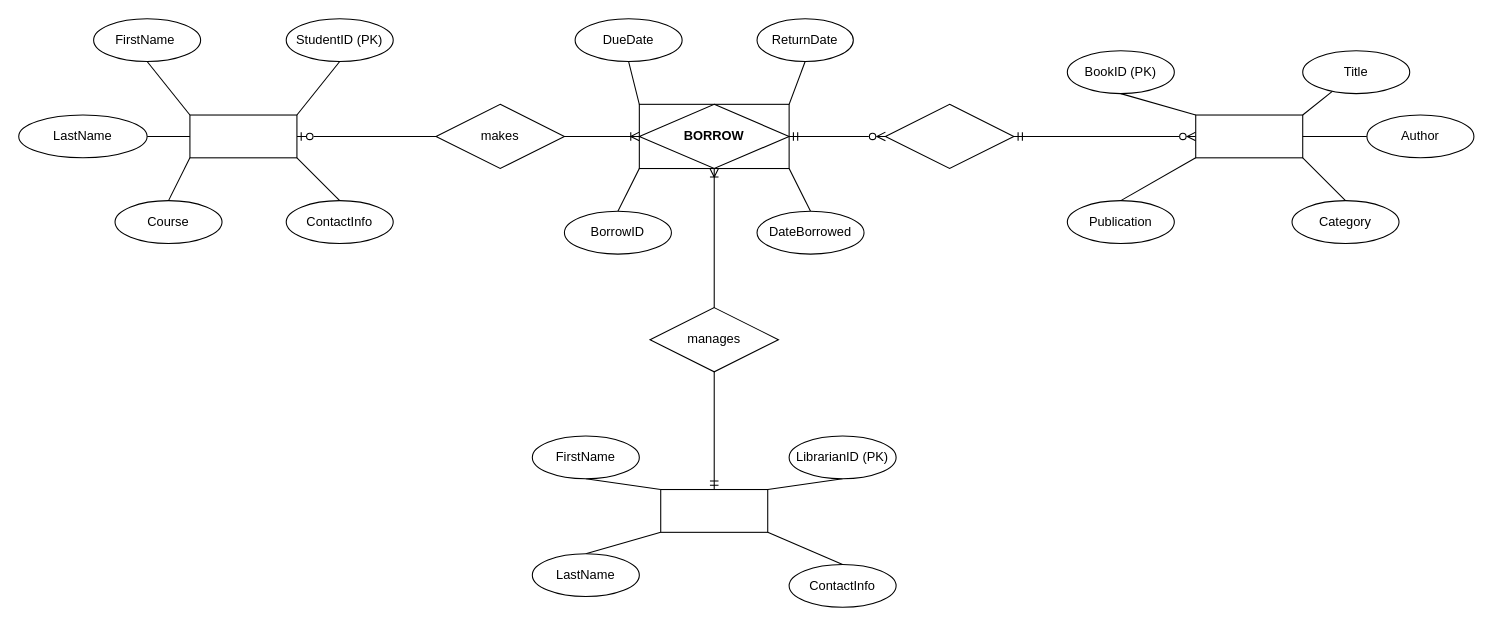
Image size: 1493x626. Some labels were removed from this diagram. Each missing label, with the centre of its shape:
"BOOKS" belongs at (x=1249, y=136).
"includes" belongs at (x=949, y=136).
"LIBRARIAN" belongs at (x=714, y=510).
"STUDENT" belongs at (x=243, y=136).
